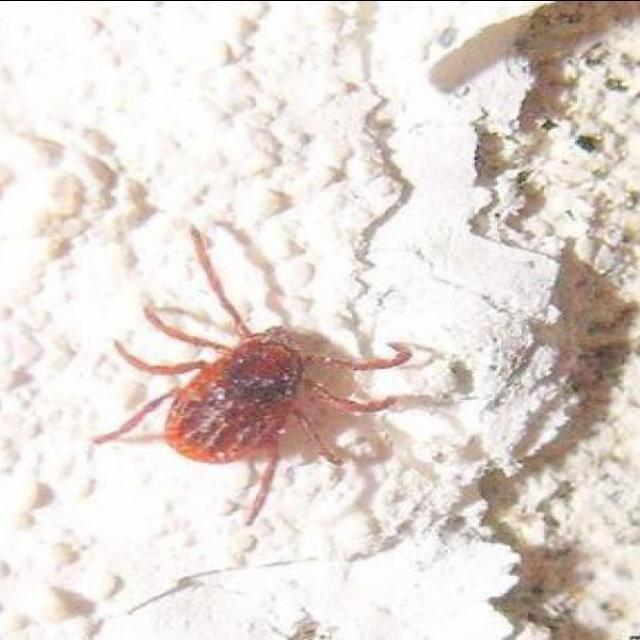Rhipicephalus Sanguineus-F: (95, 225, 455, 526)
